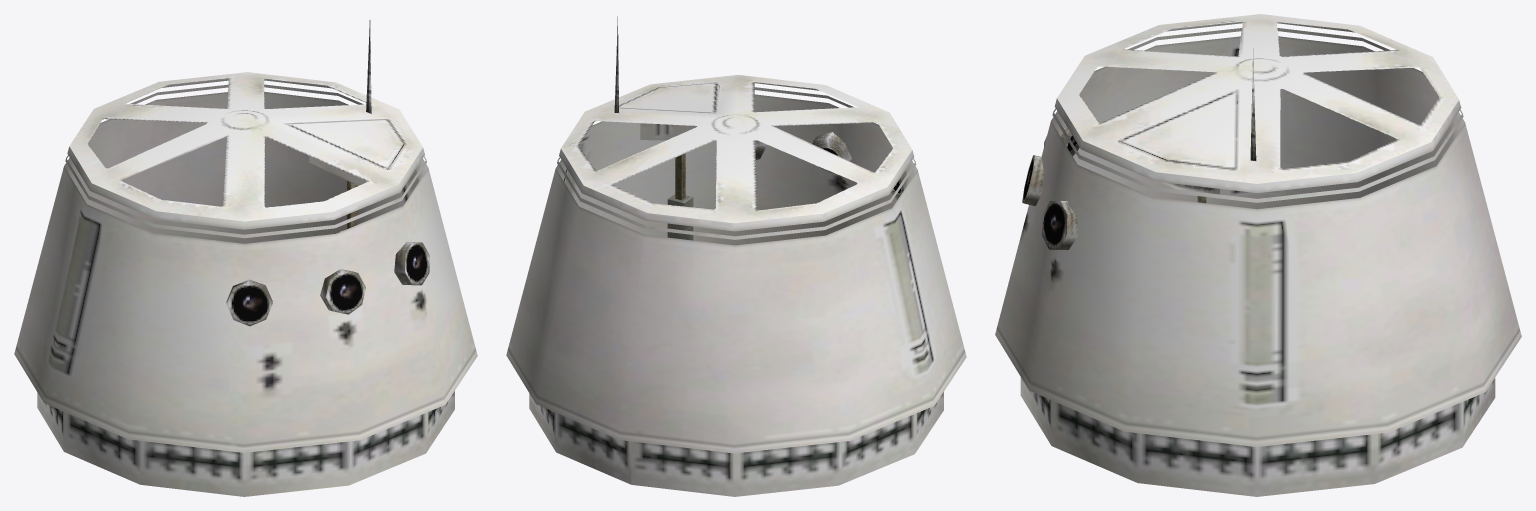
Rendered from poi_r5_head_l0.fbx.
3 renders of one model, left to right at view 1: azimuth 30°, elevation 25°; view 2: azimuth 150°, elevation 25°; view 3: azimuth 270°, elevation 25°, orthographic. The views are drawn at different scales.
Visible parts, largest first — view 1: mesh_node; view 2: mesh_node; view 3: mesh_node.
Boxes of the visible parts, x1,y1,x2,y2 form: mesh_node: (14, 20, 477, 496); mesh_node: (506, 16, 966, 496); mesh_node: (995, 14, 1521, 496).
Bounding box in the file's own units: 0.432 × 0.3771 × 0.432.
Materials: 2 (2 with a texture image).
